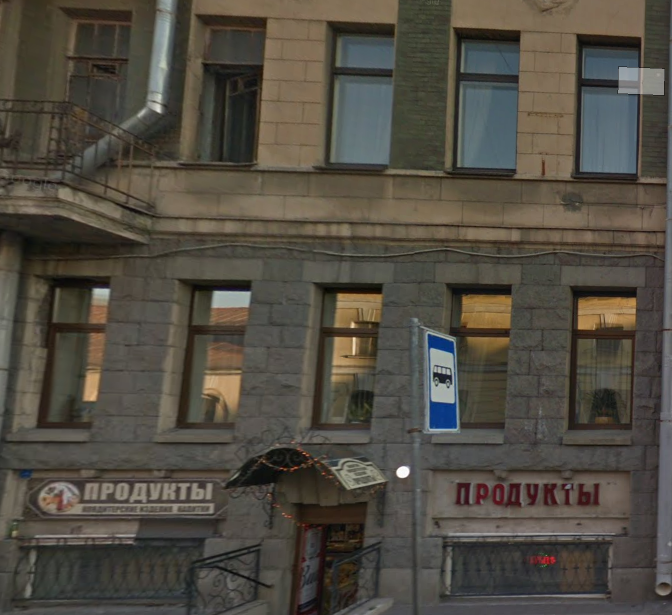signboard: (36, 476, 217, 519), (452, 477, 601, 515)
window: (35, 283, 113, 425), (178, 288, 251, 424), (192, 26, 263, 164), (310, 291, 380, 426), (452, 34, 517, 172), (62, 17, 127, 155), (571, 41, 637, 176), (450, 288, 512, 431), (327, 34, 394, 165), (575, 293, 635, 429)
